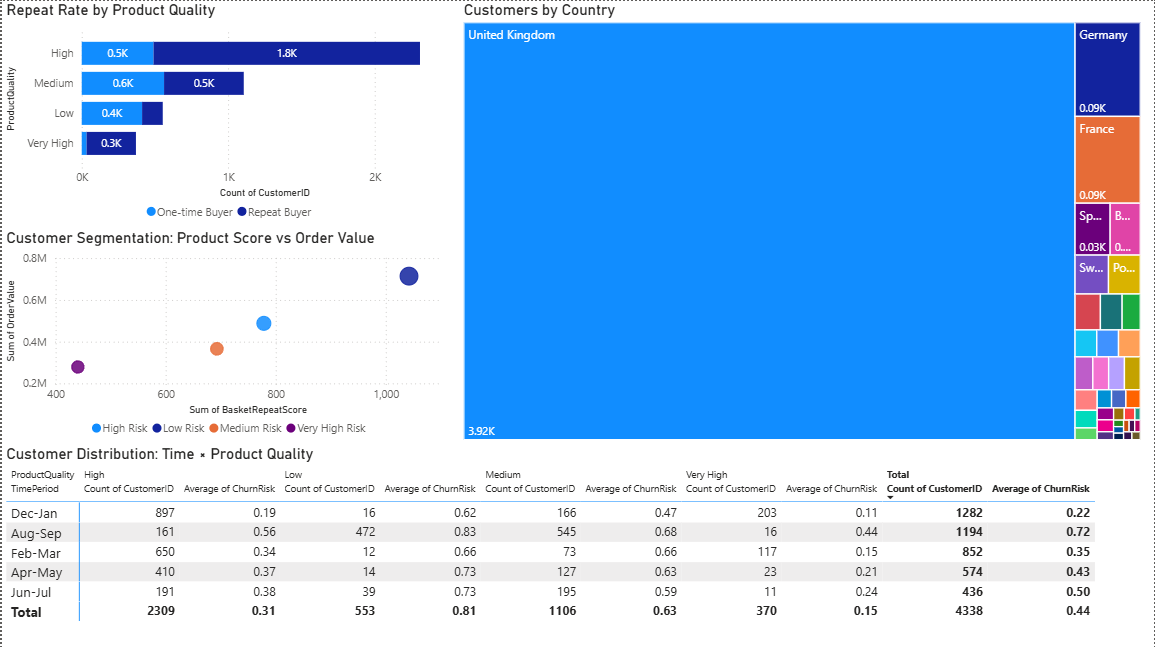

Layout of this report page (visuals, bound fields, positions):
{"tool":"powerbi","page":{"name":"Customer Segmentation","canvas":[1280,720],"ordinal":1},"visuals":[{"type":"scatterChart","title":"Customer Segmentation: Product Score vs Order Value","fields":{"X":["Sum(powerbi_customers.BasketRepeatScore)"],"Y":["Sum(powerbi_customers.OrderValue)"],"Size":["Sum(powerbi_customers.NumItems)"],"Series":["powerbi_customers.RiskCategory"]},"box":[0,252.5,507.7,240.1],"z":0},{"type":"barChart","title":"Repeat Rate by Product Quality","fields":{"Category":["powerbi_customers.ProductQuality"],"Y":["CountNonNull(powerbi_customers.CustomerID)"],"Series":["powerbi_customers.ActualLabel_Text"]},"box":[0,0,507.7,252.5],"z":1000},{"type":"pivotTable","title":"Customer Distribution: Time × Product Quality","fields":{"Rows":["powerbi_customers.TimePeriod"],"Columns":["powerbi_customers.ProductQuality"],"Values":["CountNonNull(powerbi_customers.CustomerID)","Avg(powerbi_customers.ChurnRisk)"]},"box":[0,492.6,1280.3,227.8],"z":2000},{"type":"treemap","title":"Customers by Country","fields":{"Group":["powerbi_customers.Country"],"Values":["CountNonNull(powerbi_customers.CustomerID)"]},"box":[507.7,0,761.6,492.6],"z":3000}]}

Visuals, with their boxes in screenshot pixels (x1, y1, x2, y2), scaled from the page's 1280x720 canvas onto the 1155x647 screenshot:
"Customer Segmentation: Product Score vs Order Value" scatterChart: {"left": 0, "top": 227, "right": 458, "bottom": 443}
"Repeat Rate by Product Quality" barChart: {"left": 0, "top": 0, "right": 458, "bottom": 227}
"Customer Distribution: Time × Product Quality" pivotTable: {"left": 0, "top": 443, "right": 1154, "bottom": 646}
"Customers by Country" treemap: {"left": 458, "top": 0, "right": 1145, "bottom": 443}
